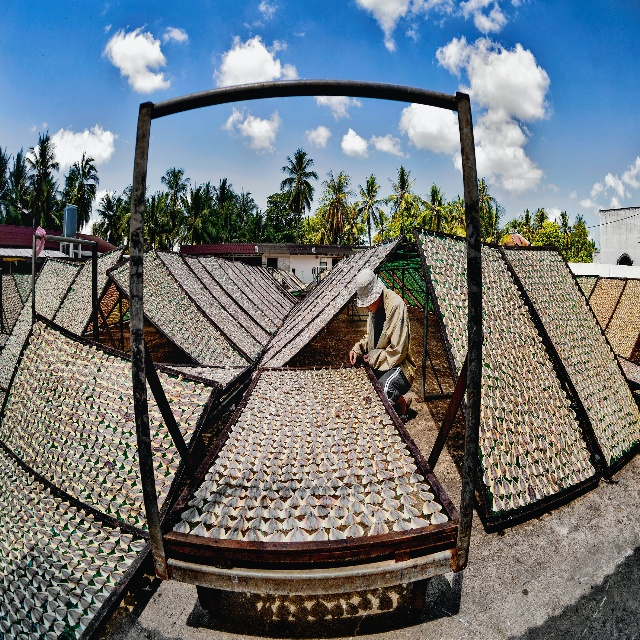Sin_guantes: (349, 349, 357, 366), (363, 352, 369, 363)
